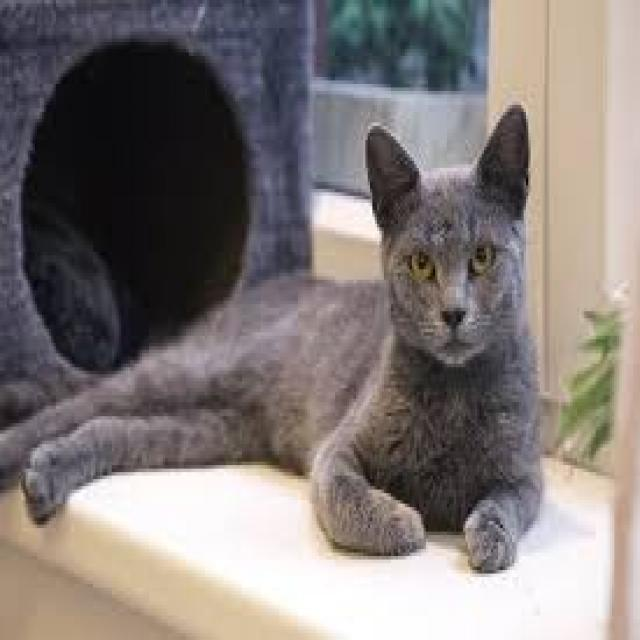Cat: (0, 100, 547, 575)
